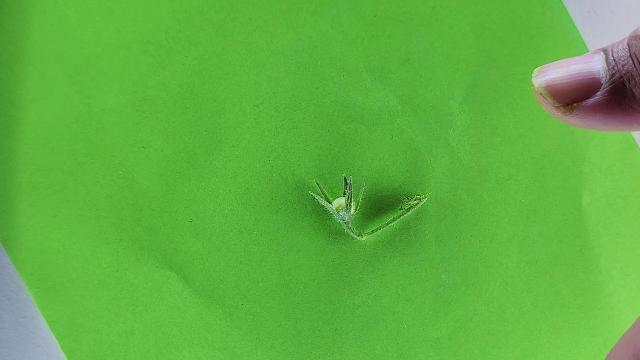Fruit Bud: (310, 173, 366, 236)
